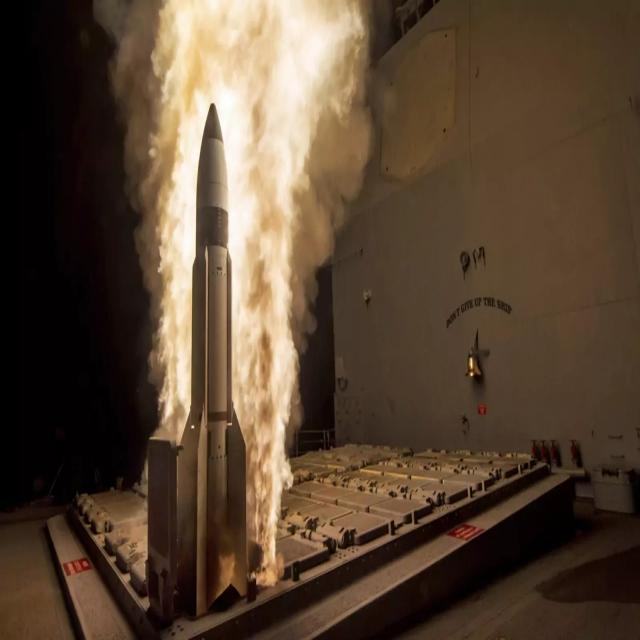Missile: (179, 95, 250, 611), (199, 237, 232, 540)
